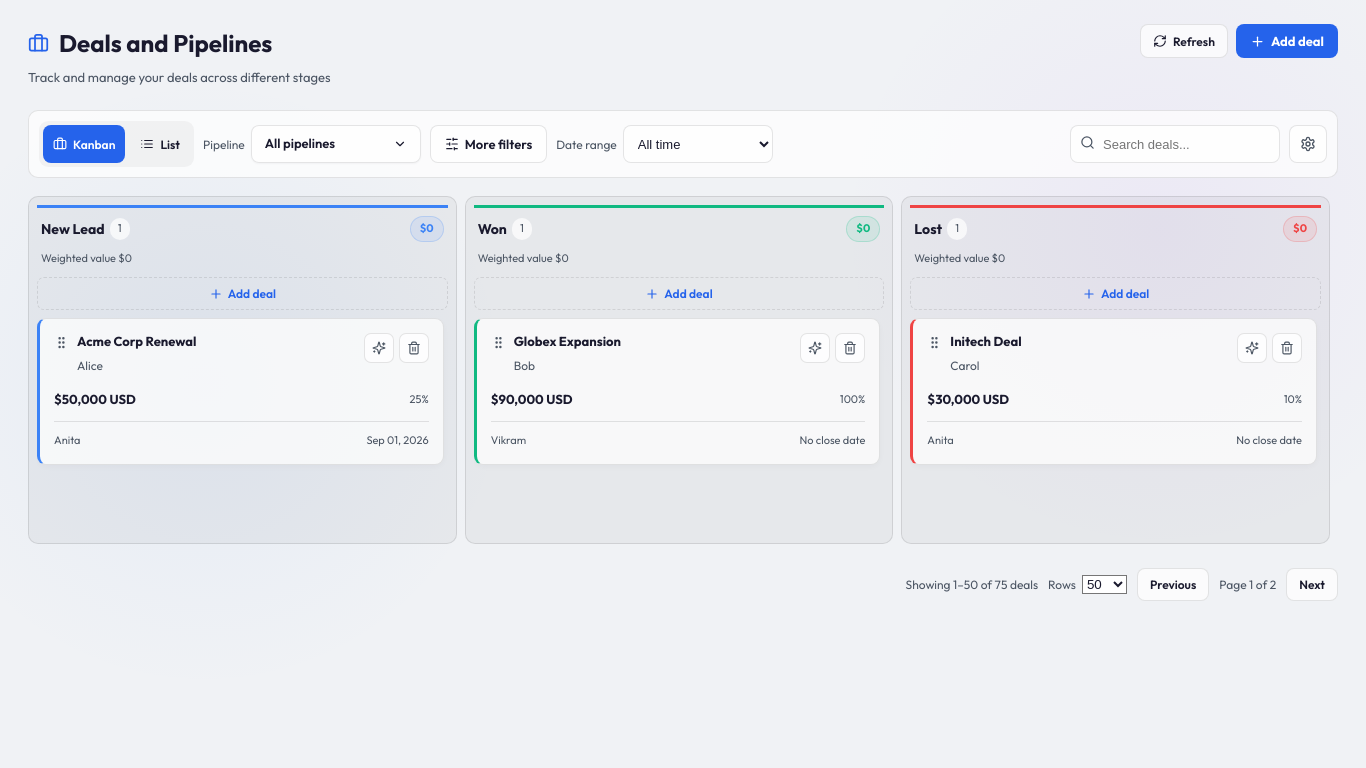
Test: Deals and Pipelines page › pages through the complete server result instead of capping at 500 rows
Check: the text "Showing 1–50 of 75 deals" is shown, box top-left (906, 575), bottom-right (1038, 594)
Step 1. Click the button "Next" → coordinates (1312, 585), box top-left (1286, 568), bottom-right (1338, 601)
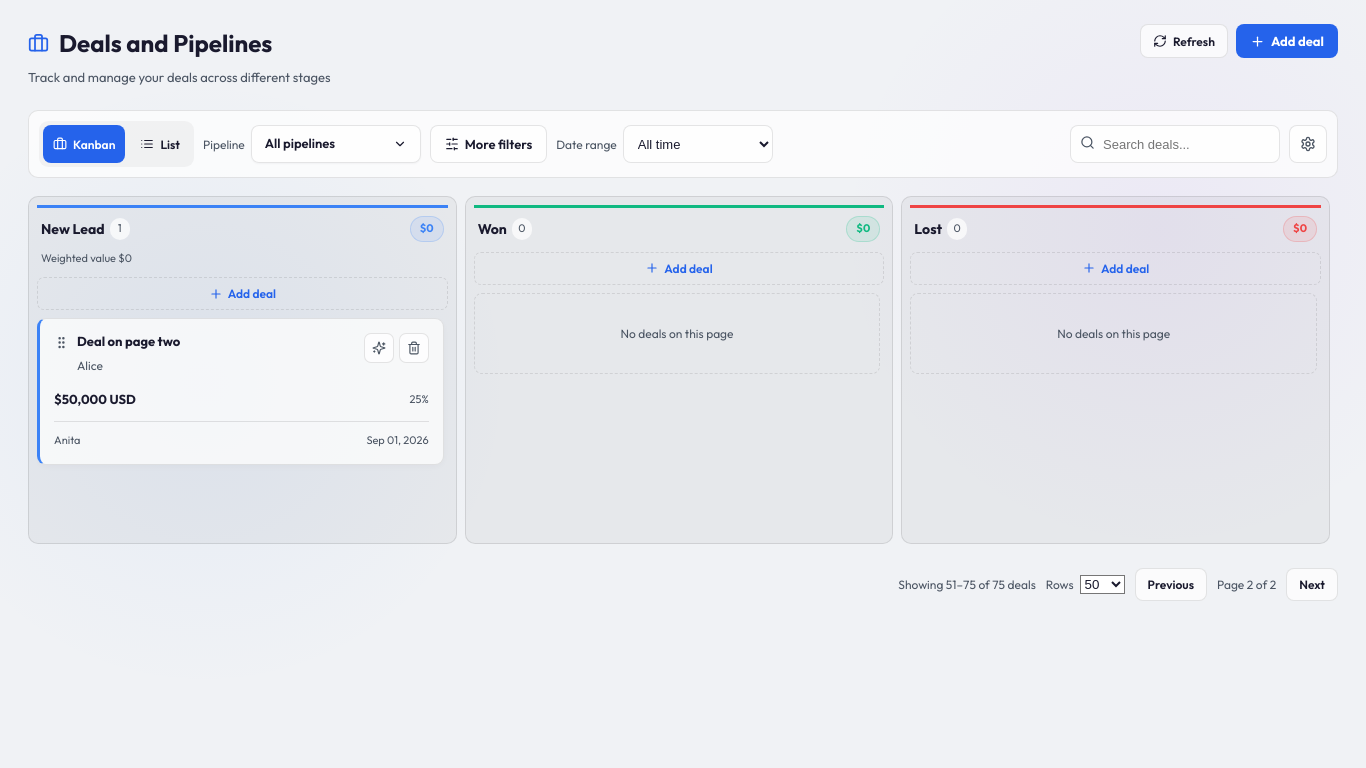
Check: the heading "Deal on page two" is shown, box top-left (77, 333), bottom-right (180, 349)
Check: the text "Showing 51–75 of 75 deals" is shown, box top-left (898, 575), bottom-right (1036, 594)
